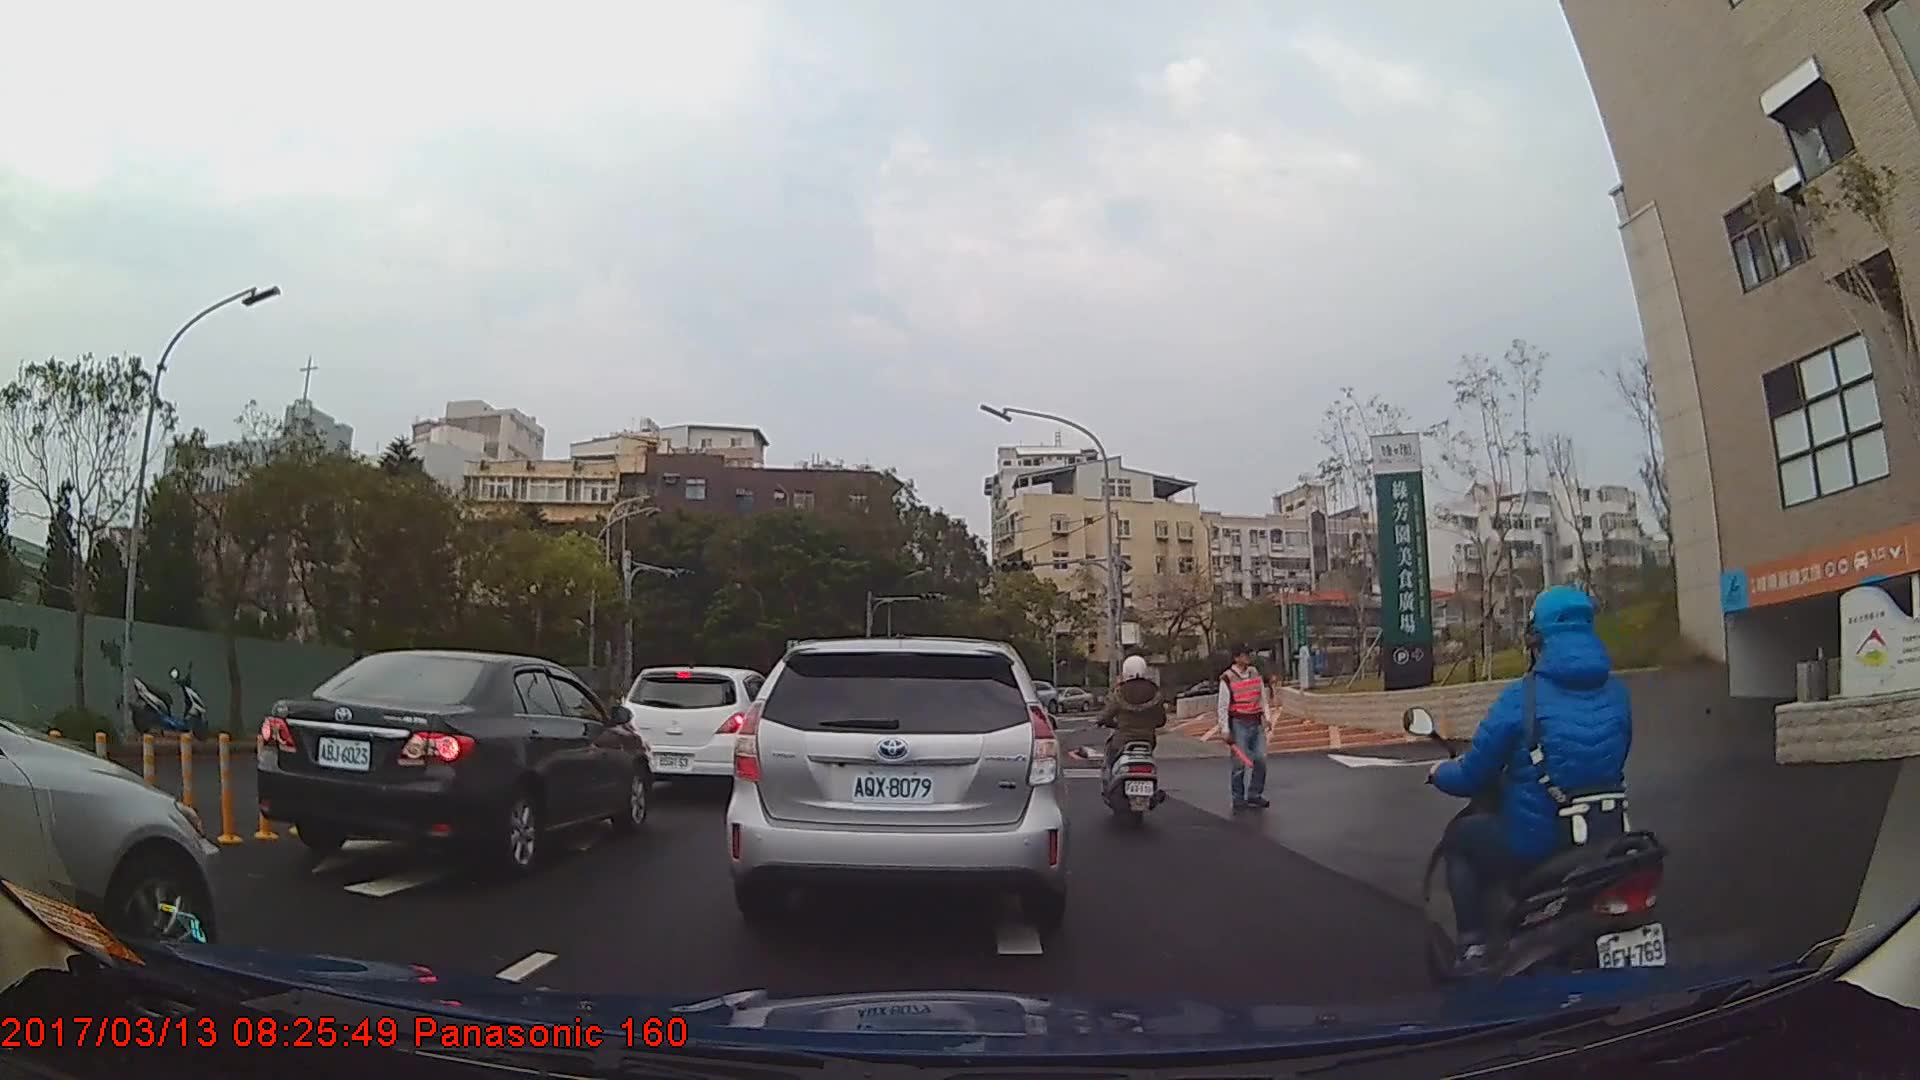pedestrian: (1213, 639, 1275, 809)
rider: (1411, 584, 1671, 1028), (1102, 657, 1173, 834)
vehicle: (726, 634, 1073, 929), (256, 647, 653, 874), (616, 665, 780, 799), (1054, 684, 1094, 713)
